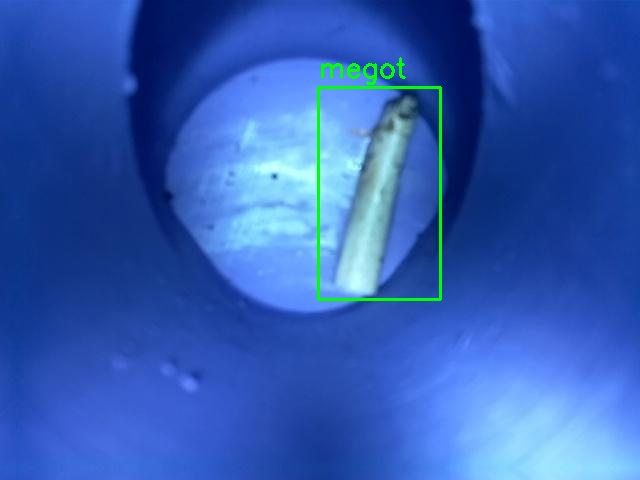megot: (318, 87, 440, 299)
